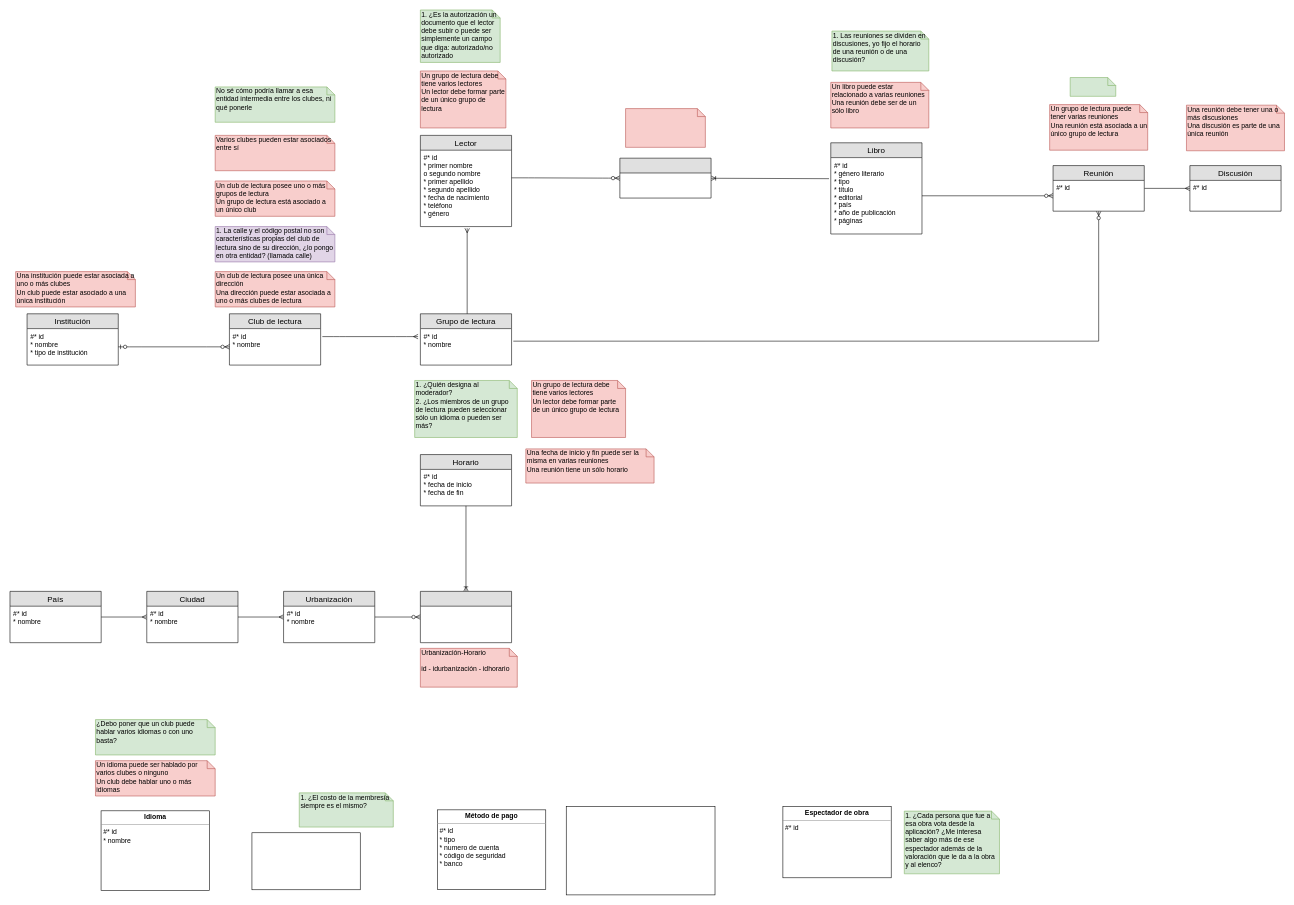
Image size: 1294x905. Some labels were removed from this diagram. The shapes that lost their labels are listed below. From the top down, each one's centre as x and y in pixels, then its label:
At [1093,86]: "o Debe?".
At [665,127]: "Lector-Libro id - idlector - idlibro".
At [665,178]: "L_L".
At [466,617]: "U_H".
At [305,861]: "Membresía #* id * estátus * costo".
At [640,850]: "Obra actuada #* id * costo de entrada".
